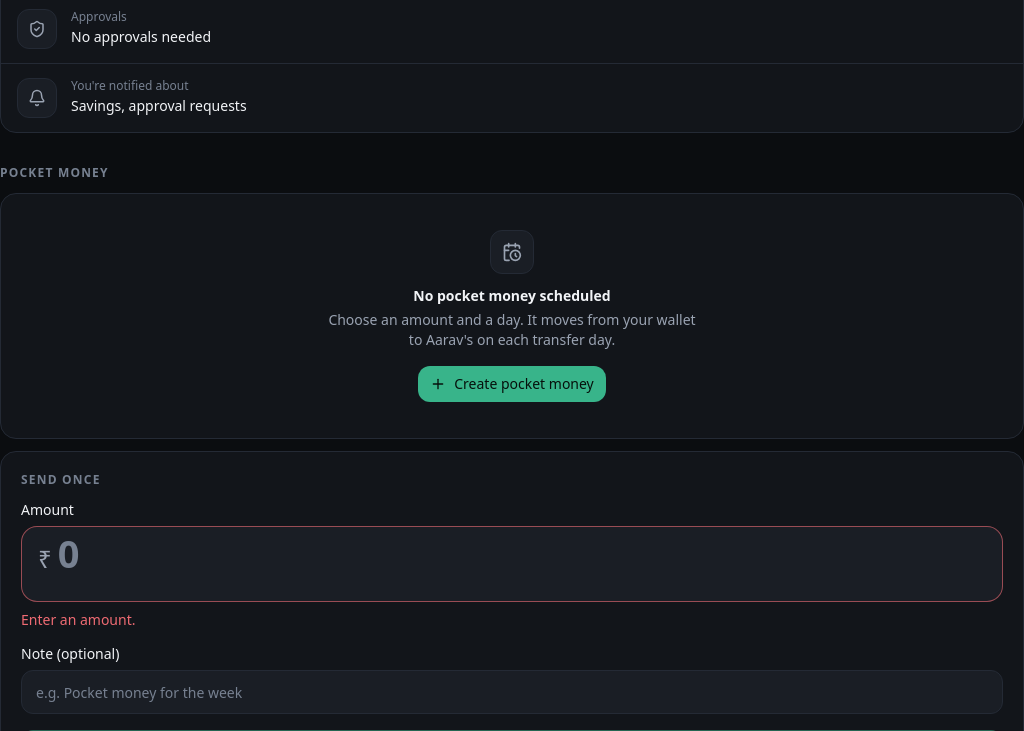
parent pocket money — create › creates a schedule from a labelled form with a preview that never claims money moved
(page scrolled)
Click the button "Create pocket money". click: (512, 384)
box: top-left (418, 366), bottom-right (606, 402)
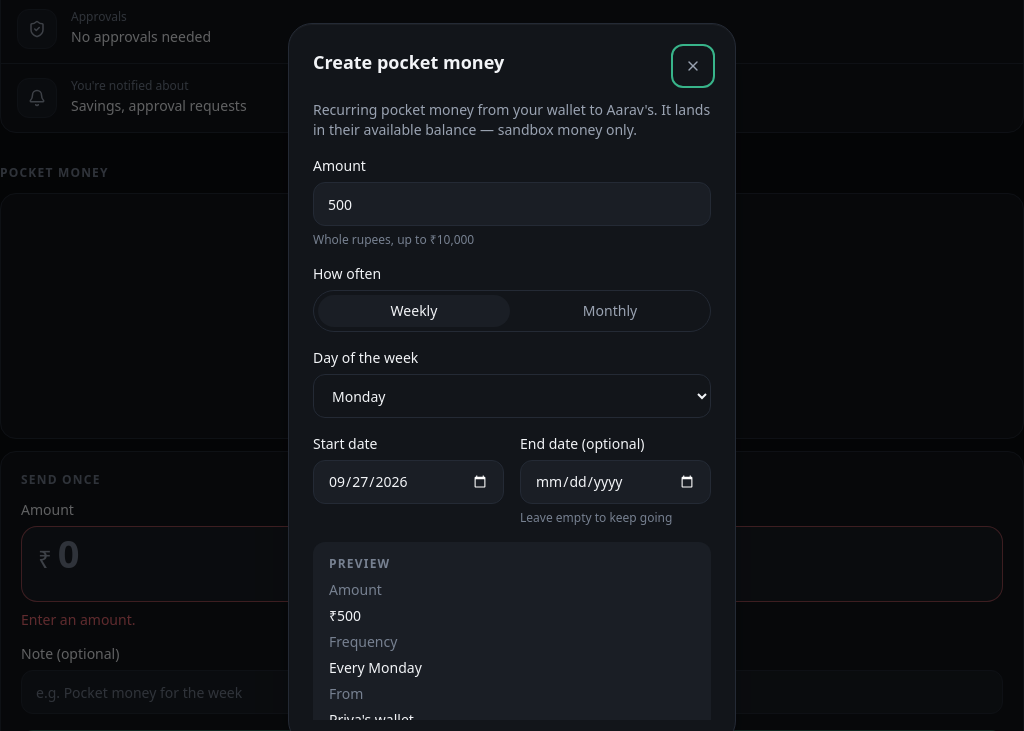
Expected: the field labelled "Amount" holds "500"
Expected: the dropdown labelled "Day of the week" is shown, top-left (313, 374), bottom-right (711, 418)
Expected: the date field labelled "Start date" is shown, top-left (313, 460), bottom-right (504, 504)
// Switch to monthly on the 5th, ₹750.
Clear the field labelled "Amount". click: (512, 204)
box: top-left (313, 182), bottom-right (711, 226)
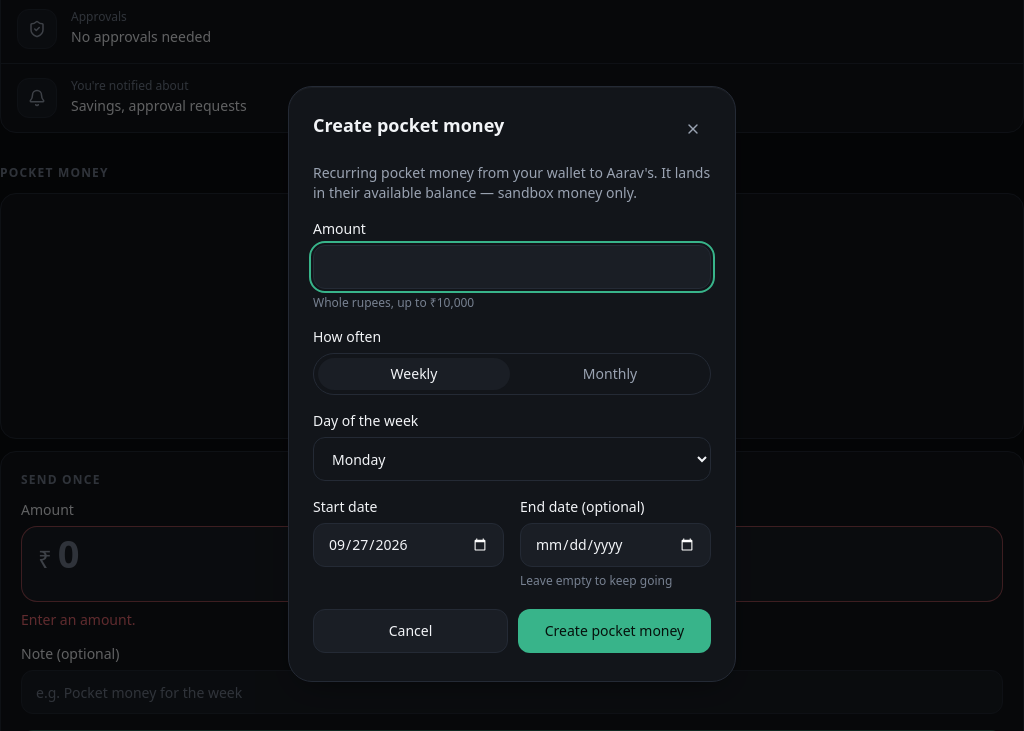
Type "750" into the field labelled "Amount". click: (512, 267)
box: top-left (313, 245), bottom-right (711, 289)
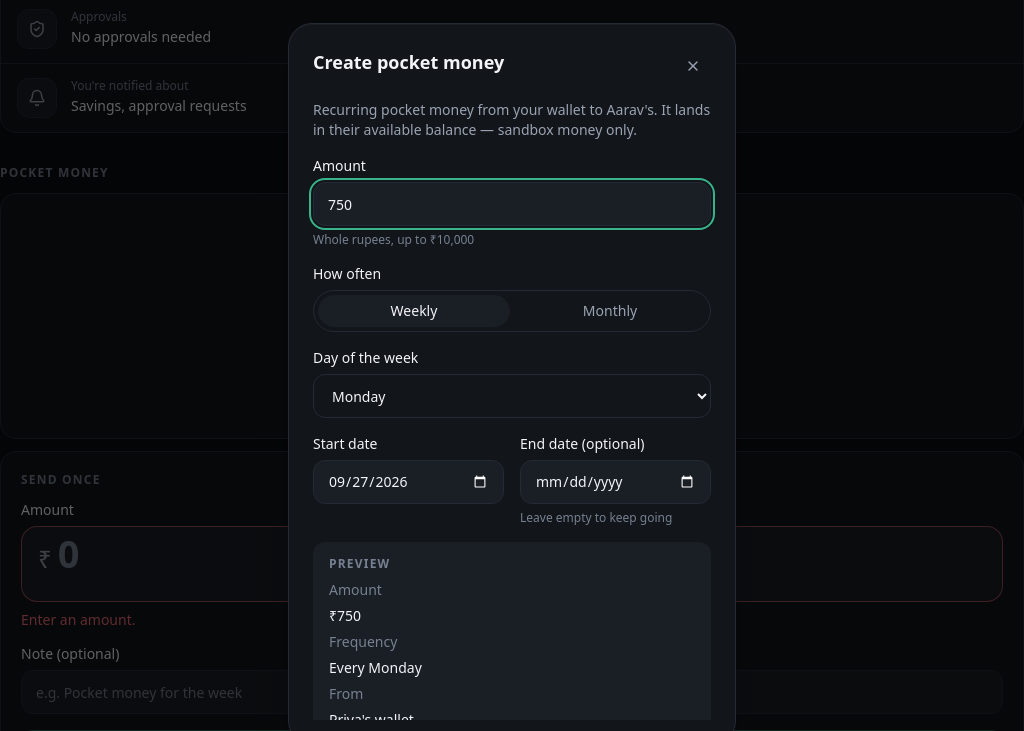
Click the button "monthly". click: (610, 311)
box: top-left (514, 295), bottom-right (706, 327)
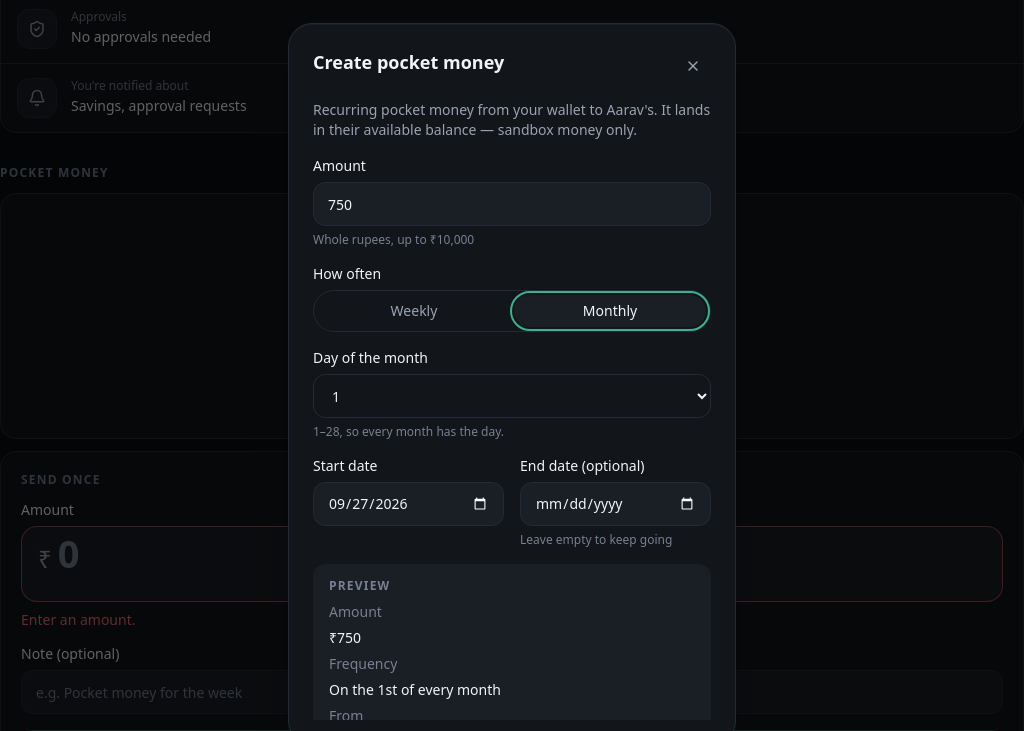
Select "5" in the dropdown labelled "Day of the month". click: (512, 396)
box: top-left (313, 374), bottom-right (711, 418)
(page scrolled)
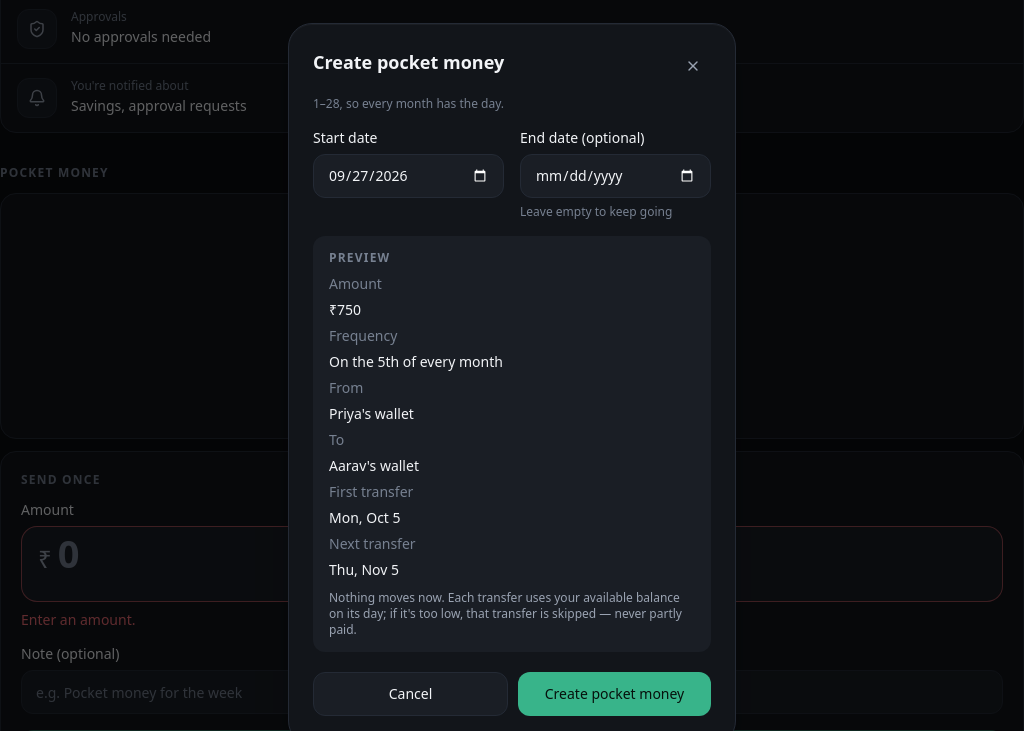
Expected: the element "Preview" shows "₹750", top-left (329, 300), bottom-right (361, 319)
Expected: the element "Preview" shows "From", top-left (329, 378), bottom-right (363, 397)
Expected: the element "Preview" shows "On the 5th of every month", top-left (329, 352), bottom-right (503, 371)
Click the button "Create pocket money". click: (614, 694)
box: top-left (518, 672), bottom-right (711, 716)
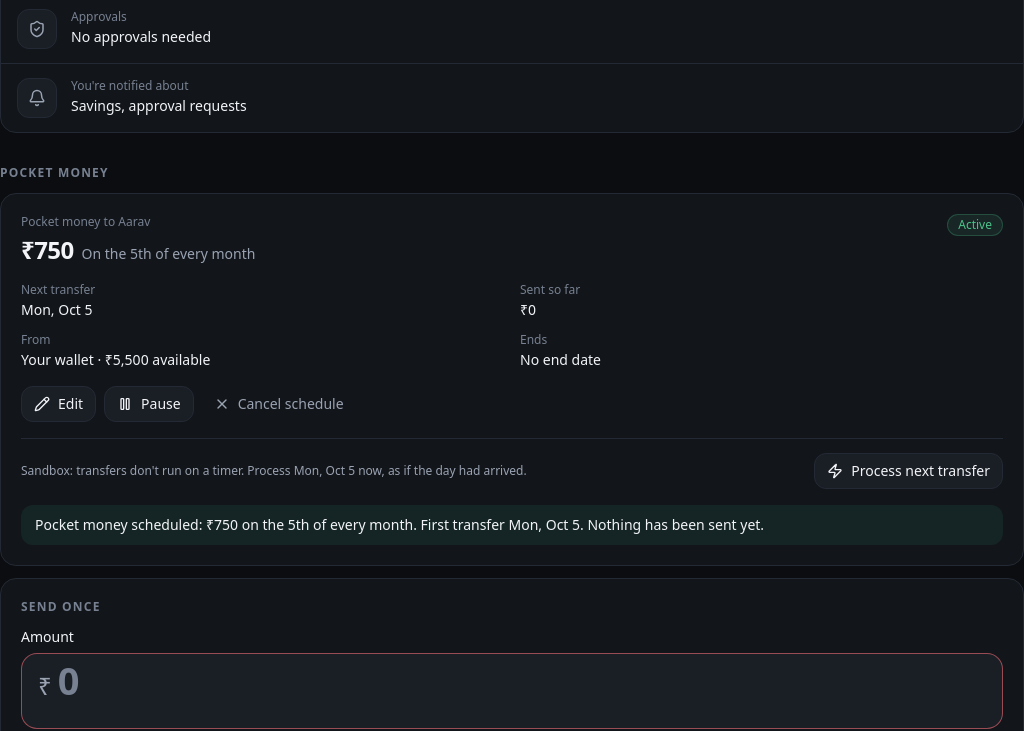
Expected: the text "Pocket money to Aarav" is shown, top-left (21, 213), bottom-right (150, 230)
Expected: the text "On the 5th of every month" is shown, top-left (82, 244), bottom-right (255, 264)
Expected: the text "Active" is shown, top-left (947, 214), bottom-right (1003, 236)
